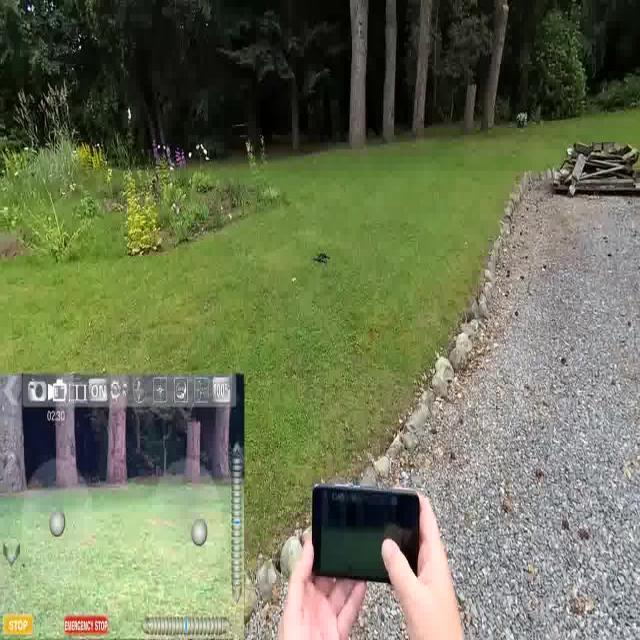drones: (312, 244, 334, 270)
